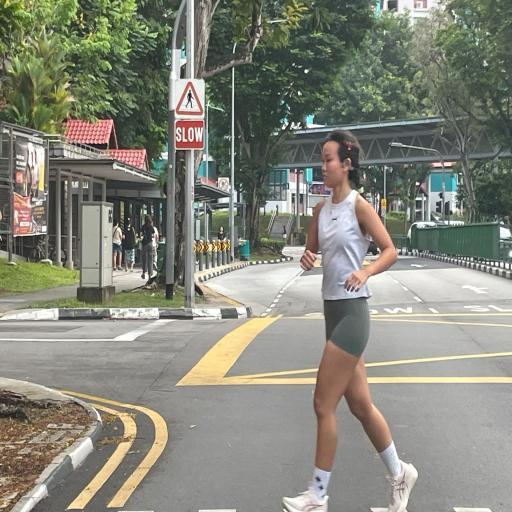person_left: (296, 126, 402, 512)
